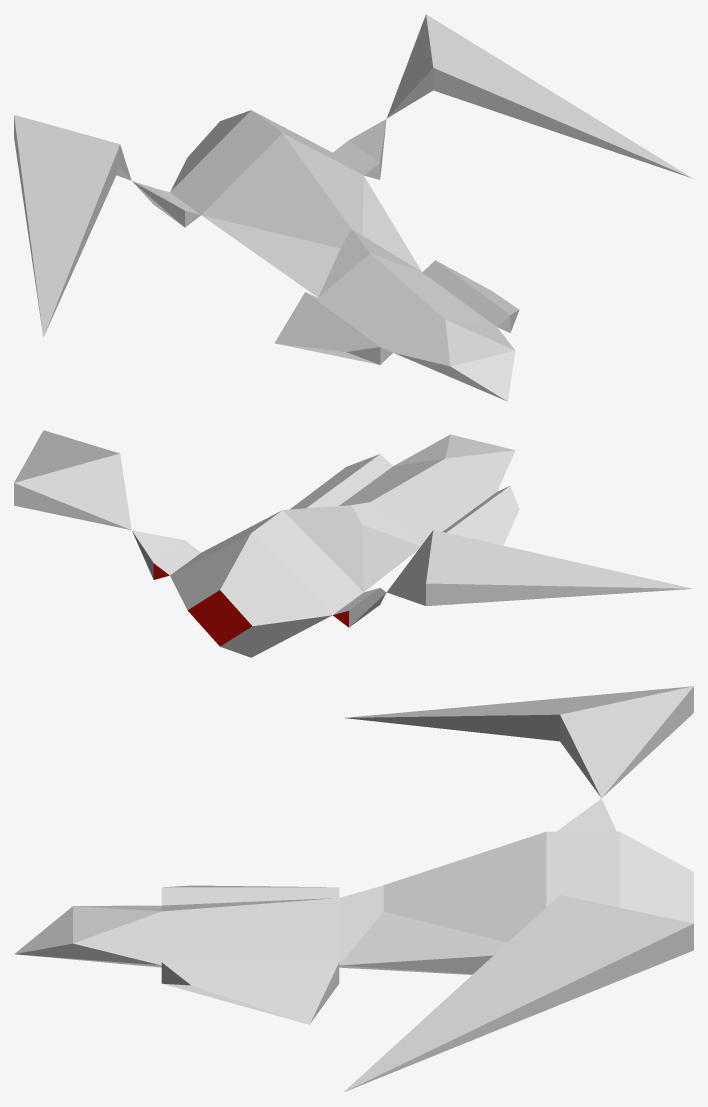
File: Ray Dagger.fbx
The picture shows the model from 3 angles, top to bottom: view 1: azimuth 30°, elevation 25°; view 2: azimuth 150°, elevation 25°; view 3: azimuth 270°, elevation 25°; orthographic projection. The views are drawn at different scales.
Parts seen in each view (by area): view 1: RayDagger; view 2: RayDagger; view 3: RayDagger.
Part boxes in pixels (x1,y1,x2,y2): RayDagger: [14, 14, 692, 401]; RayDagger: [14, 430, 693, 657]; RayDagger: [14, 686, 693, 1092].
Size of the model in its own units: 2.4 by 0.52 by 1.84.
